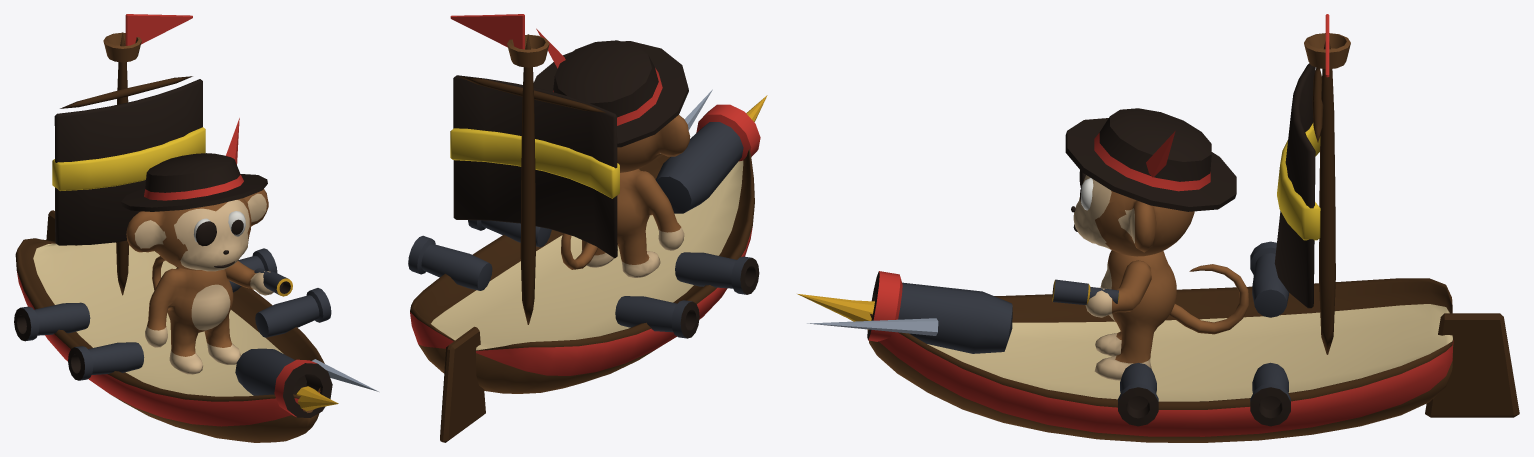
3 renders of one model, left to right at view 1: azimuth 30°, elevation 25°; view 2: azimuth 150°, elevation 25°; view 3: azimuth 270°, elevation 25°, orthographic. The views are drawn at different scales.
Parts seen in each view (by area): view 1: bucaneiro_0_base, bucaneiro_3_cabeca, bucaneiro_1_corpo, bucaneiro_4_torreta, bucaneiro_5_braco; view 2: bucaneiro_0_base, bucaneiro_3_cabeca, bucaneiro_4_torreta, bucaneiro_1_corpo, bucaneiro_2_cauda; view 3: bucaneiro_0_base, bucaneiro_3_cabeca, bucaneiro_4_torreta, bucaneiro_1_corpo, bucaneiro_5_braco, bucaneiro_2_cauda.
Boxes of the visible parts, x1,y1,x2,y2 form: bucaneiro_0_base: (14,14,378,442); bucaneiro_3_cabeca: (121,118,268,271); bucaneiro_1_corpo: (145,267,241,374); bucaneiro_4_torreta: (235,348,332,417); bucaneiro_5_braco: (225,261,292,296); bucaneiro_0_base: (408,14,767,442); bucaneiro_3_cabeca: (533,28,690,172); bucaneiro_4_torreta: (655,104,760,213); bucaneiro_1_corpo: (581,169,684,277); bucaneiro_2_cauda: (561,233,597,269); bucaneiro_0_base: (797,14,1519,442); bucaneiro_3_cabeca: (1065,108,1236,256); bucaneiro_4_torreta: (867,271,1012,353); bucaneiro_1_corpo: (1094,250,1176,380); bucaneiro_5_braco: (1052,260,1151,317); bucaneiro_2_cauda: (1169,264,1249,334).
Bounding box in the file's own units: 1.12 × 1.43 × 2.3.
